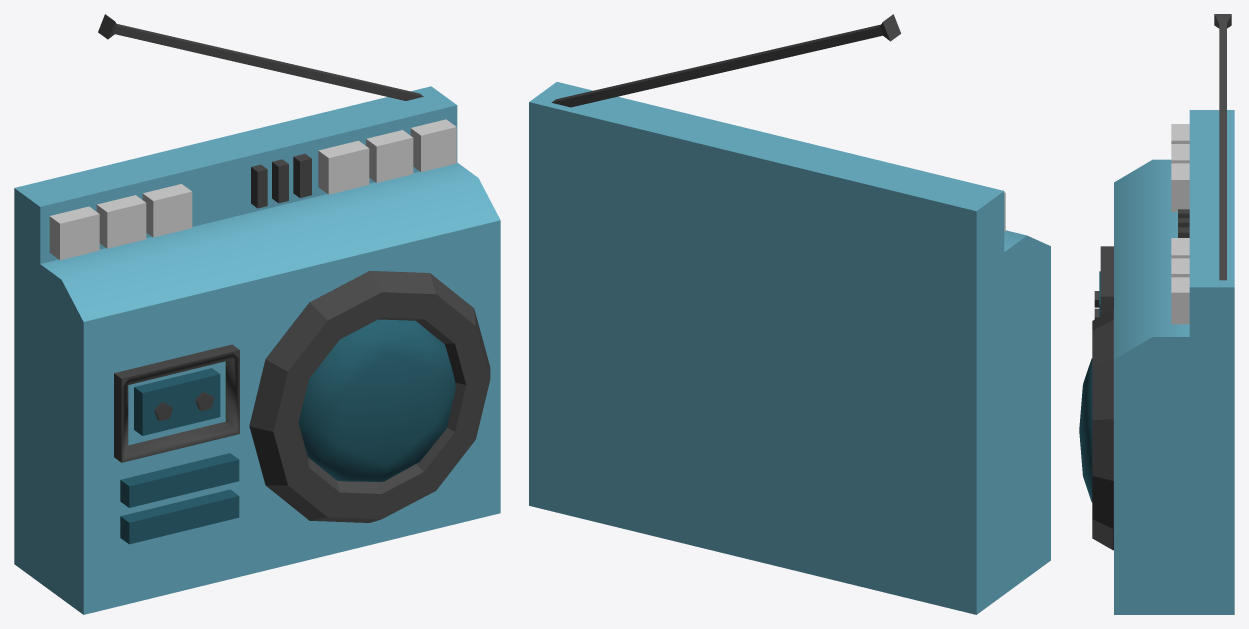
File: Radio.fbx
3 views of the same model, side by side, from view 1: azimuth 30°, elevation 25°; view 2: azimuth 150°, elevation 25°; view 3: azimuth 270°, elevation 25° (orthographic). The views are drawn at different scales.
Visible parts, largest first — view 1: pTorus3; view 2: pTorus3; view 3: pTorus3.
Part boxes in pixels (left/top/right/bottom): pTorus3: left=14, top=14, right=500, bottom=614; pTorus3: left=529, top=14, right=1050, bottom=614; pTorus3: left=1079, top=14, right=1234, bottom=614.
Size of the model in its own units: 1.49 by 1.81 by 0.5525.
